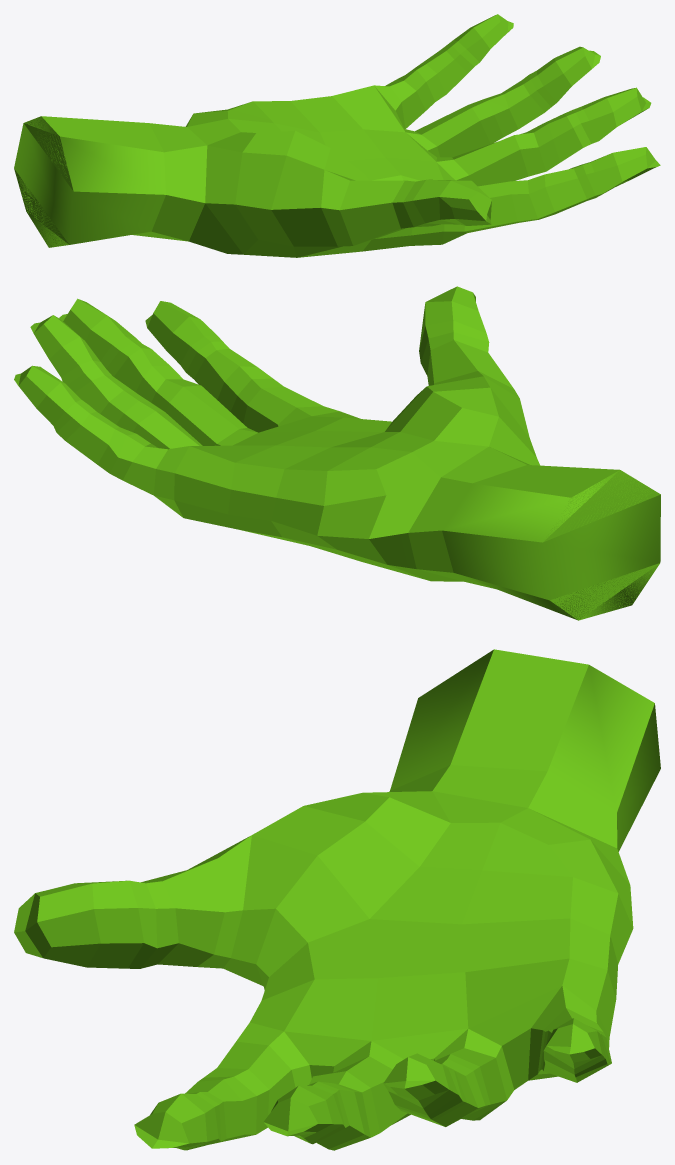
File: hand.glb
3 renders of one model, top to bottom at view 1: azimuth 30°, elevation 25°; view 2: azimuth 150°, elevation 25°; view 3: azimuth 270°, elevation 25°, orthographic. The views are drawn at different scales.
Parts seen in each view (by area): view 1: Object_5; view 2: Object_5; view 3: Object_5.
Part boxes in pixels (left/top/right/bottom): Object_5: left=14, top=14, right=660, bottom=257; Object_5: left=14, top=286, right=660, bottom=620; Object_5: left=14, top=649, right=660, bottom=1150.
Size of the model in its own units: 103 by 25.33 by 67.22.
